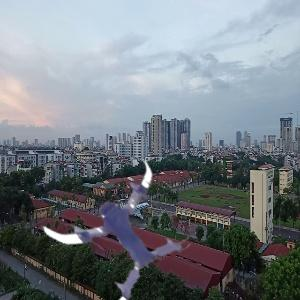drone: (47, 155, 190, 298)
